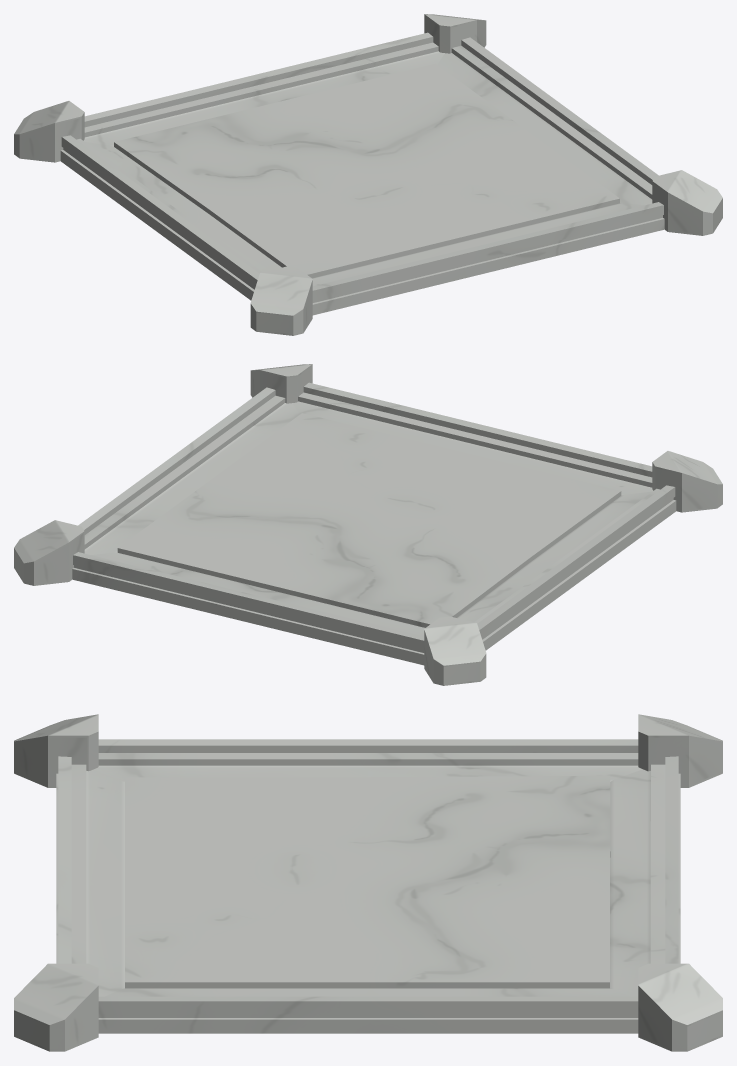
Rendered from SM_Stan_Platform.fbx.
The picture shows the model from 3 angles, top to bottom: view 1: azimuth 30°, elevation 25°; view 2: azimuth 150°, elevation 25°; view 3: azimuth 270°, elevation 25°; orthographic projection. The views are drawn at different scales.
Parts seen in each view (by area): view 1: SM_Stan_Platform; view 2: SM_Stan_Platform; view 3: SM_Stan_Platform.
Part boxes in pixels (box(x1,y1,x2,y2)): SM_Stan_Platform: box(14, 14, 722, 335); SM_Stan_Platform: box(14, 364, 722, 685); SM_Stan_Platform: box(14, 714, 722, 1051).
Size of the model in its own units: 4.54 by 0.369 by 4.54.
